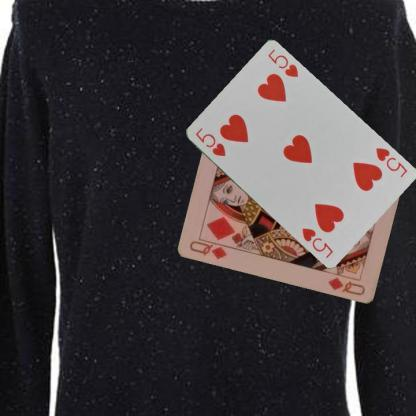5h: (373, 145, 408, 179), (192, 125, 226, 158)
Qd: (188, 235, 234, 260)
